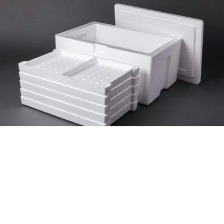foam_box: (51, 18, 186, 108), (14, 45, 143, 125), (110, 0, 207, 86)
